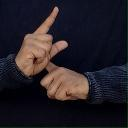hand: (14, 5, 68, 77), (39, 61, 89, 101)
